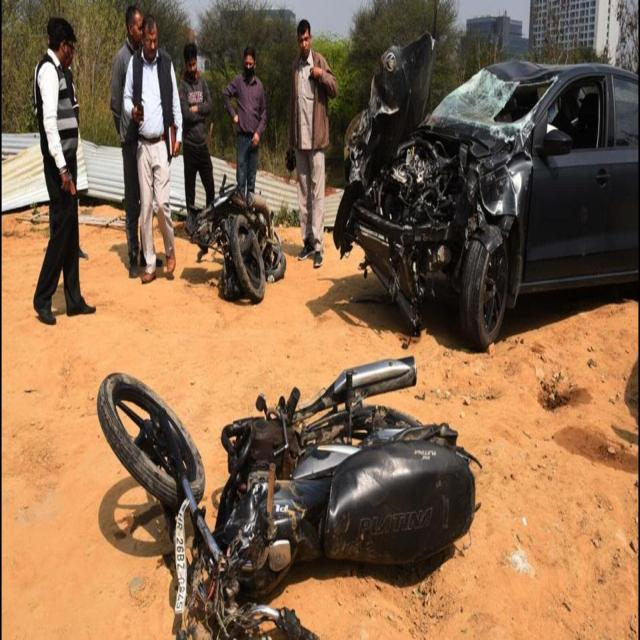accident: (98, 358, 476, 638), (334, 33, 640, 349), (186, 176, 286, 302)
